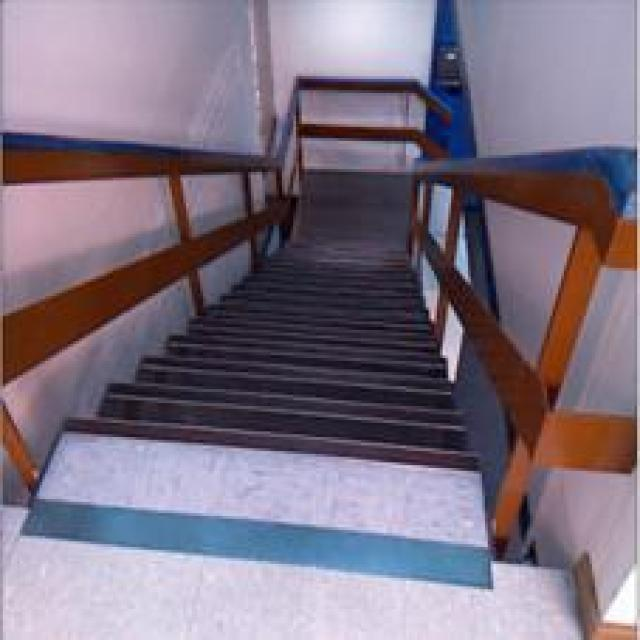downstair: (54, 306, 472, 528)
